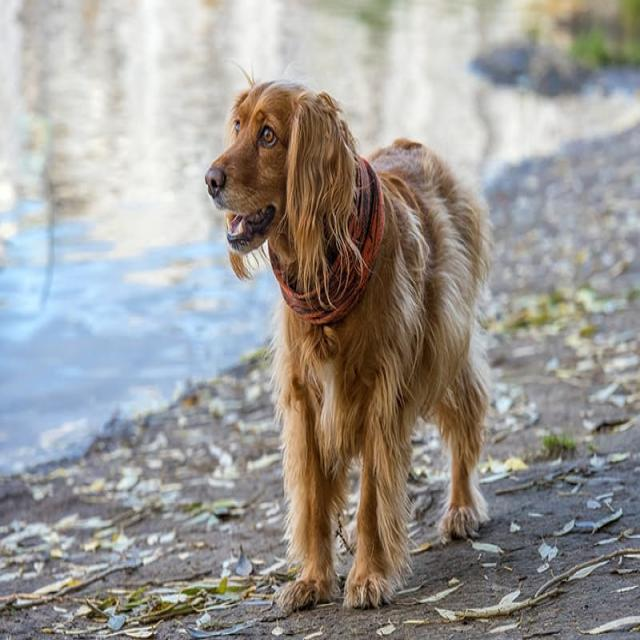fungal infection: (252, 104, 272, 125)
